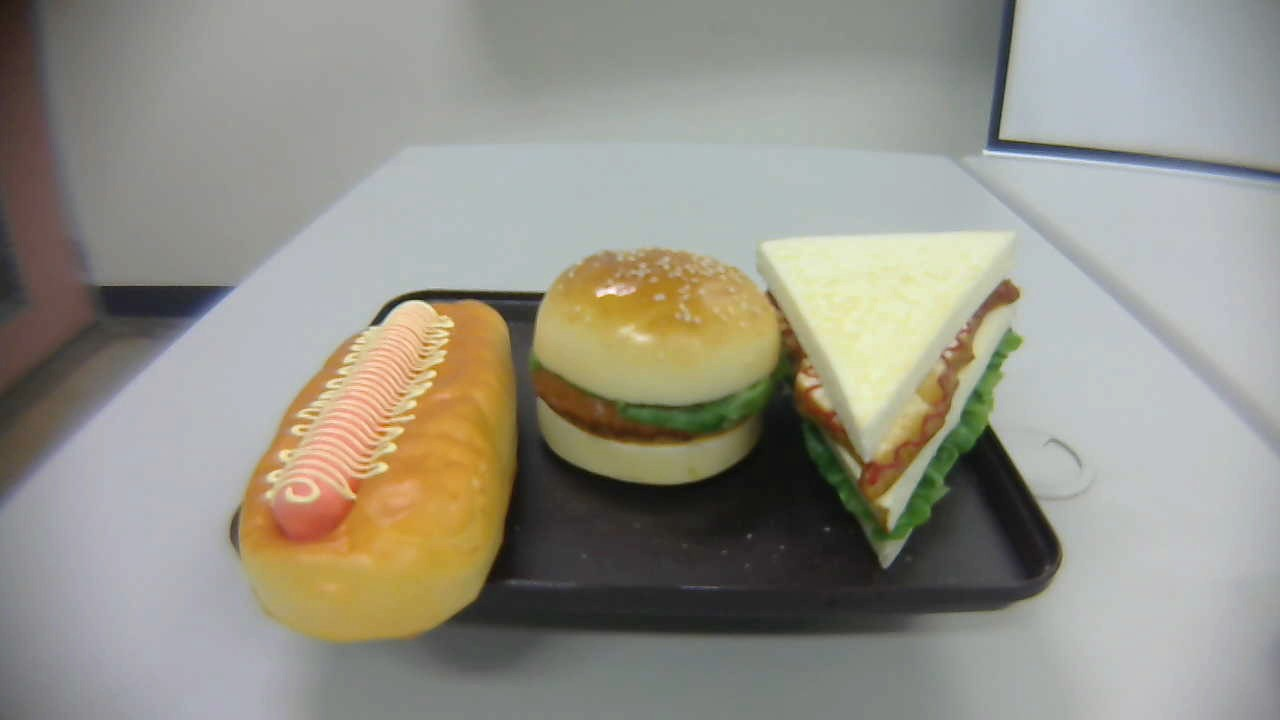hamburger: (531, 245, 777, 486)
hot dog: (236, 298, 519, 645)
sandwich: (757, 232, 1023, 574)
